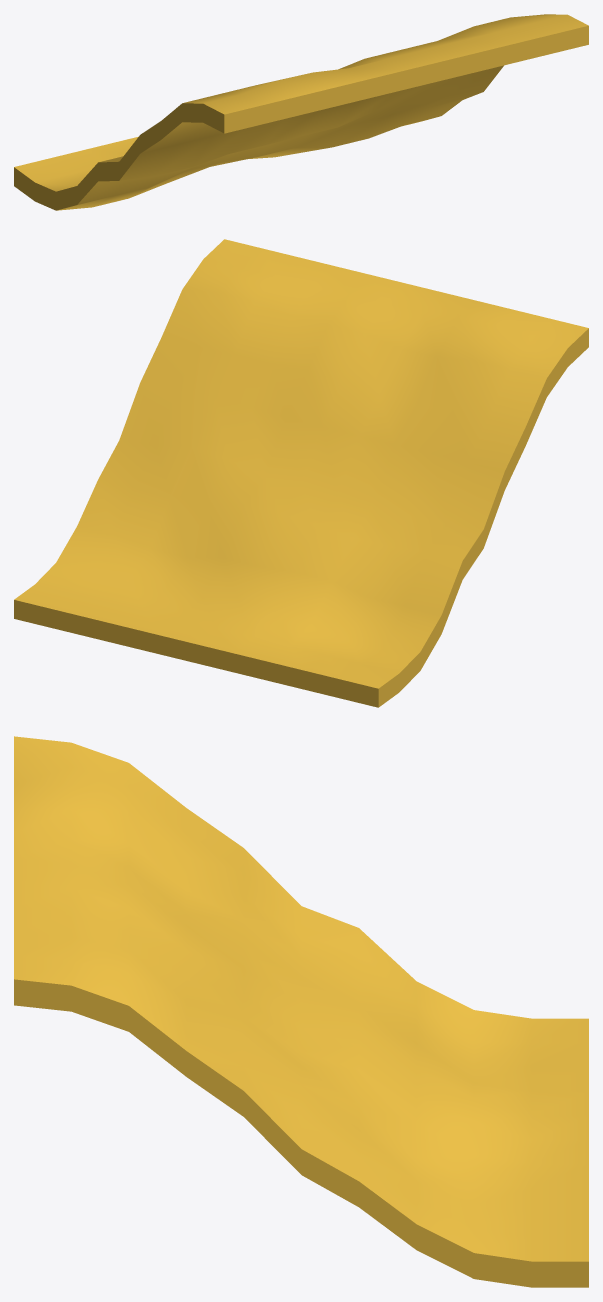
The model's file is Steil - Unten - Hügel a - a.fbx.
3 renders of one model, top to bottom at view 1: azimuth 30°, elevation 25°; view 2: azimuth 150°, elevation 25°; view 3: azimuth 270°, elevation 25°, orthographic. The views are drawn at different scales.
Visible parts, largest first — view 1: Steil - Unten - Hügel a - a; view 2: Steil - Unten - Hügel a - a; view 3: Steil - Unten - Hügel a - a.
Boxes of the visible parts, x1,y1,x2,y2 form: Steil - Unten - Hügel a - a: (14,14,588,210); Steil - Unten - Hügel a - a: (14,239,588,707); Steil - Unten - Hügel a - a: (14,736,588,1287).
Bounding box in the file's own units: 394 × 233 × 394.
